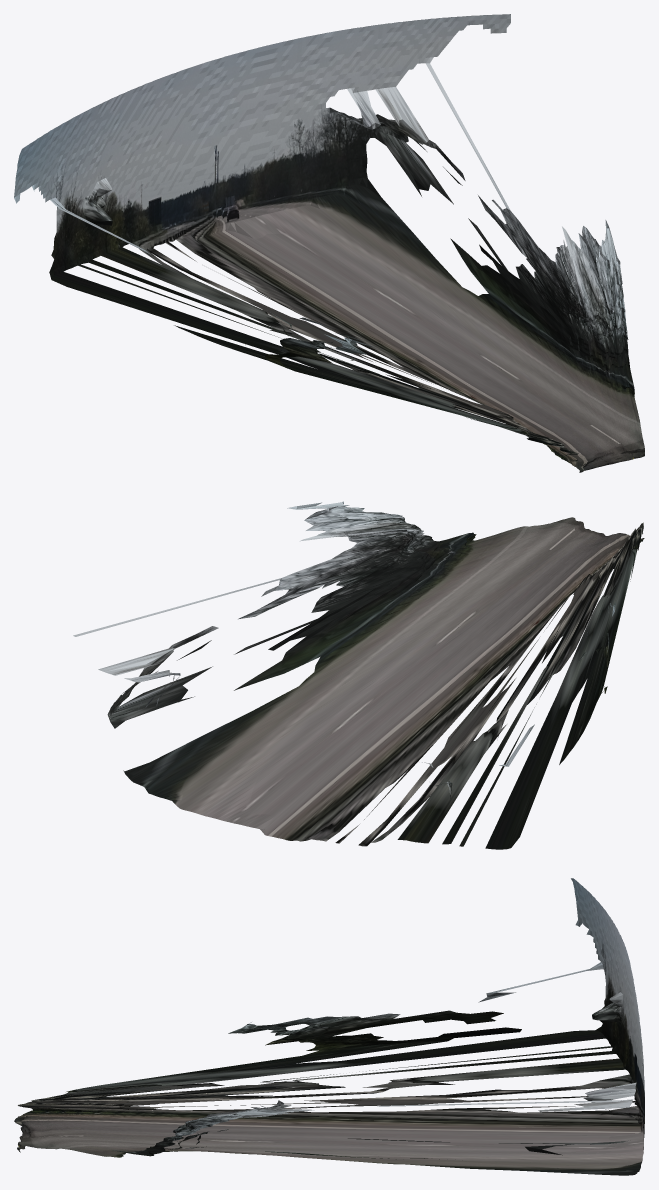
3 renders of one model, top to bottom at view 1: azimuth 30°, elevation 25°; view 2: azimuth 150°, elevation 25°; view 3: azimuth 270°, elevation 25°, orthographic. The views are drawn at different scales.
Visible parts, largest first — view 1: defaultobject; view 2: defaultobject; view 3: defaultobject.
Boxes of the visible parts, <box> form: defaultobject: <box>14,14,644,472</box>; defaultobject: <box>73,501,644,849</box>; defaultobject: <box>14,878,644,1175</box>.
Bounding box in the file's own units: 36.75 × 12.47 × 44.51.
Materials: 1 (1 with a texture image).
